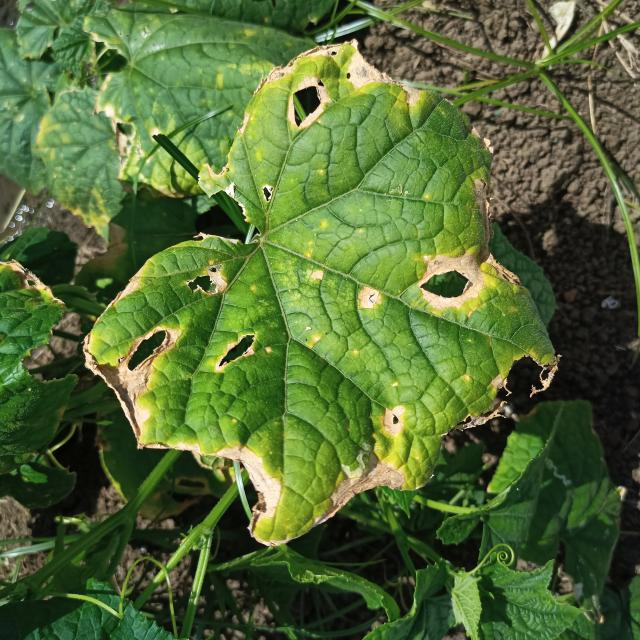disease_cucumber: (82, 40, 560, 546)
